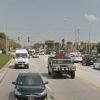Car: (7, 66, 52, 100)
